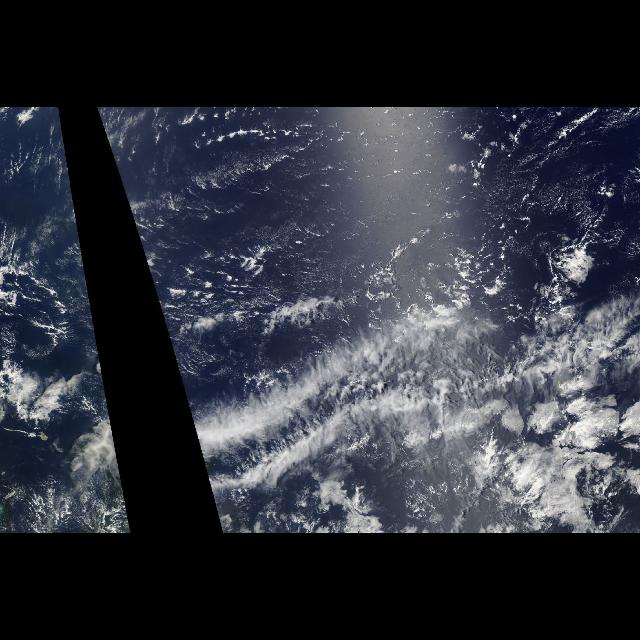Fish: (157, 303, 525, 505), (64, 303, 126, 505)
Sugar: (130, 114, 588, 298)
